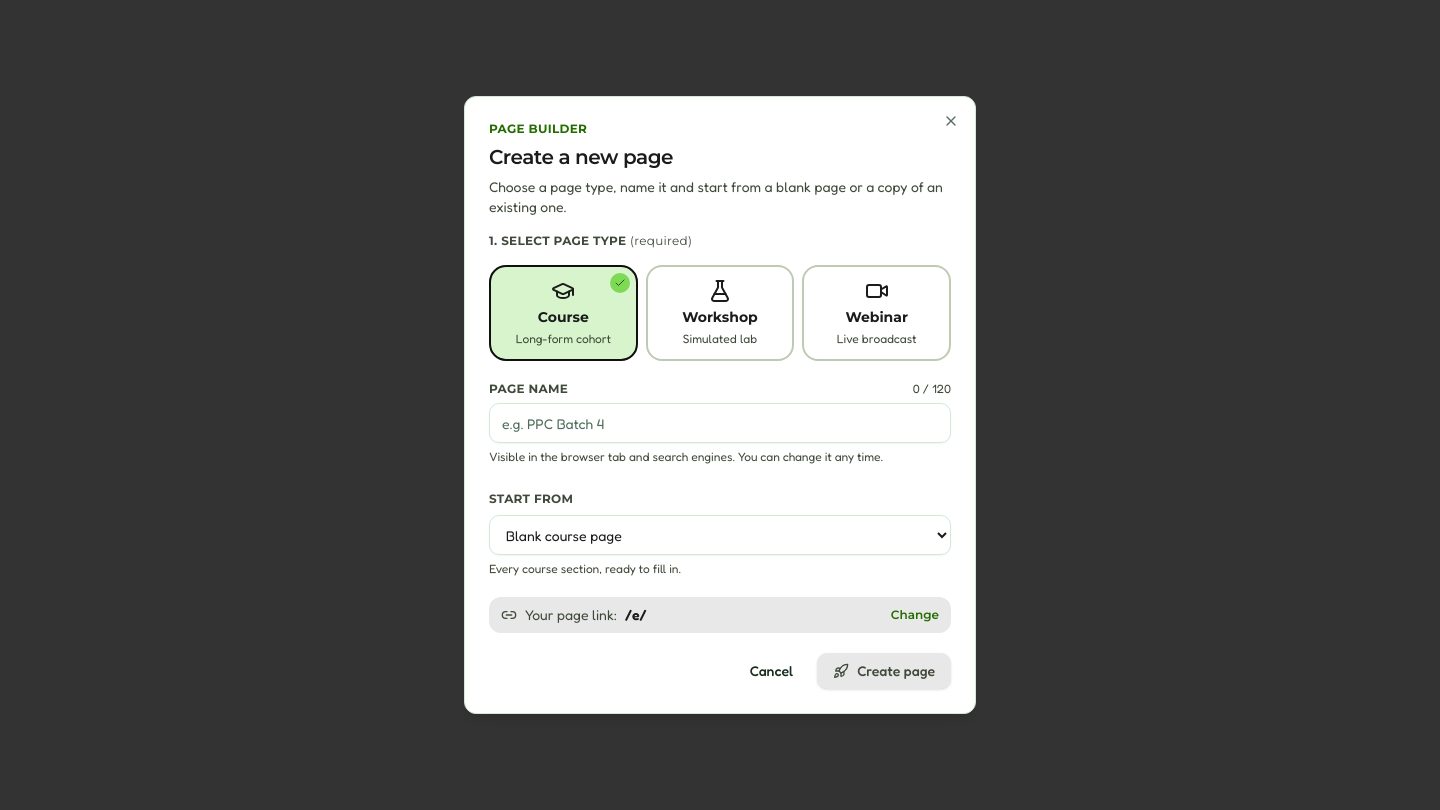
Scenario: NewPageDialog › clears the server error when the name or the link is edited
This screenshot has width=1440, height=810.
In the field labelled "Page name": (720, 423) [489, 403, 951, 443], type "PPC Batch 3"
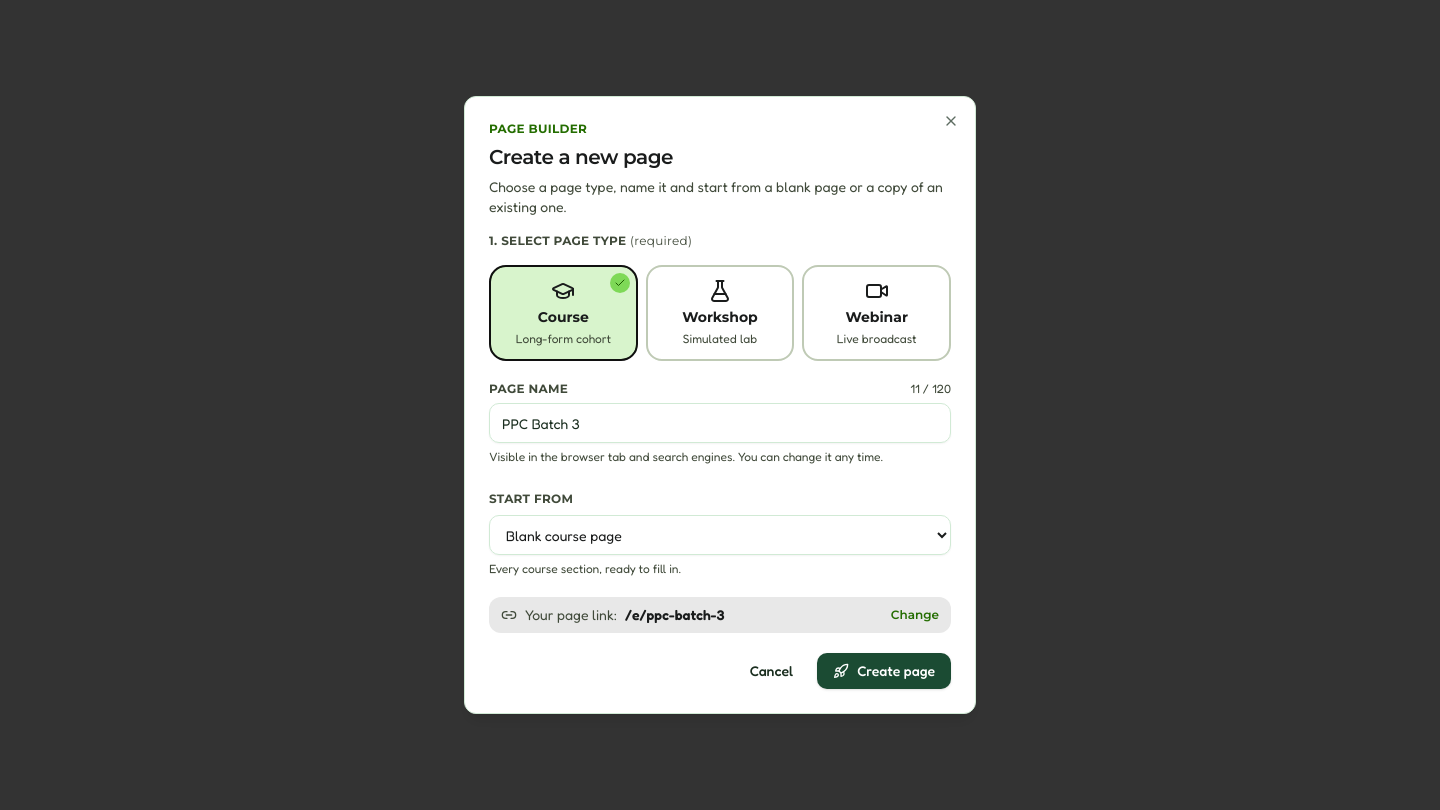
Click the button "Create page": (884, 671) [817, 653, 951, 689]
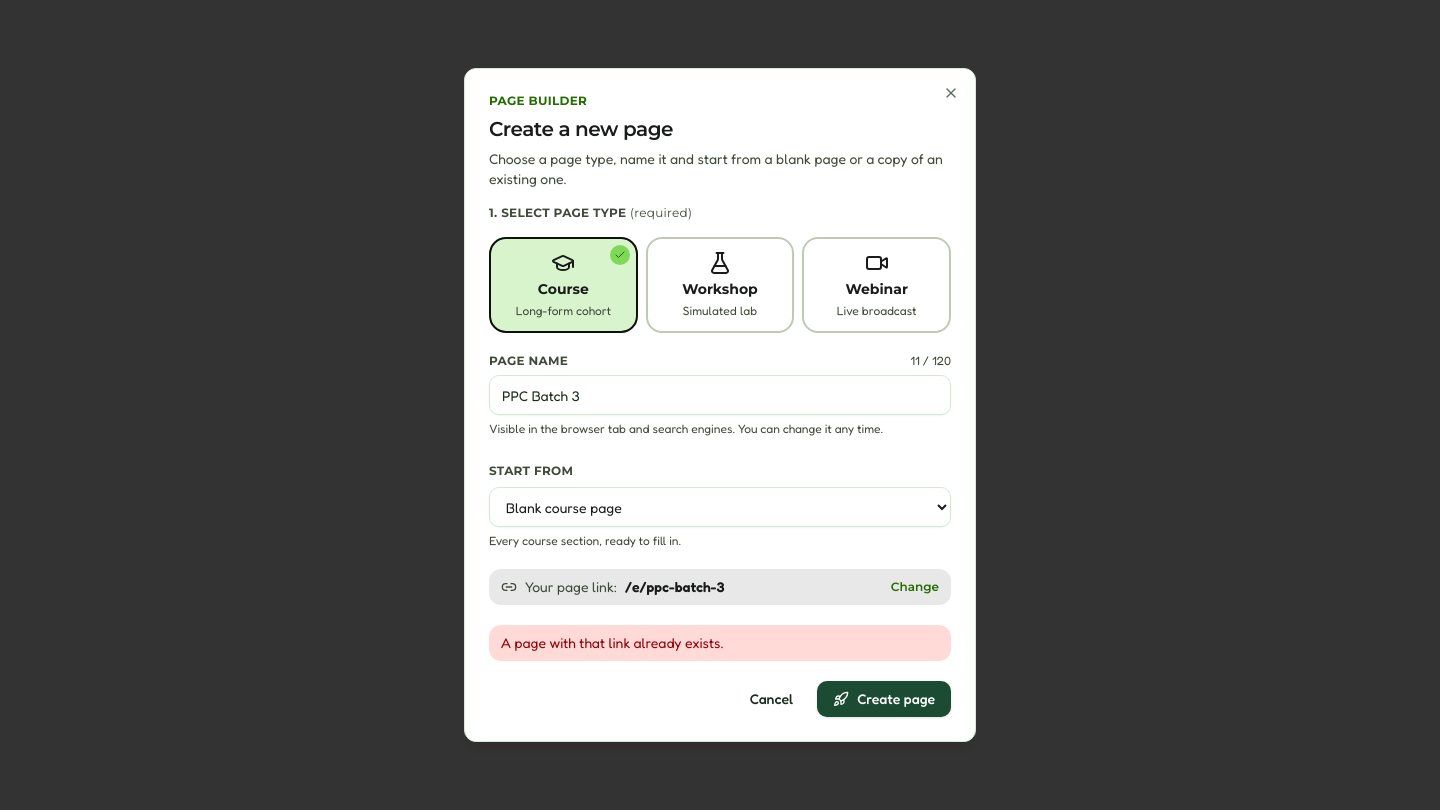
expect the text "A page with that link already exists." is shown: met, box [489, 625, 951, 661]
Click the button "Change": (915, 587) [891, 579, 939, 595]
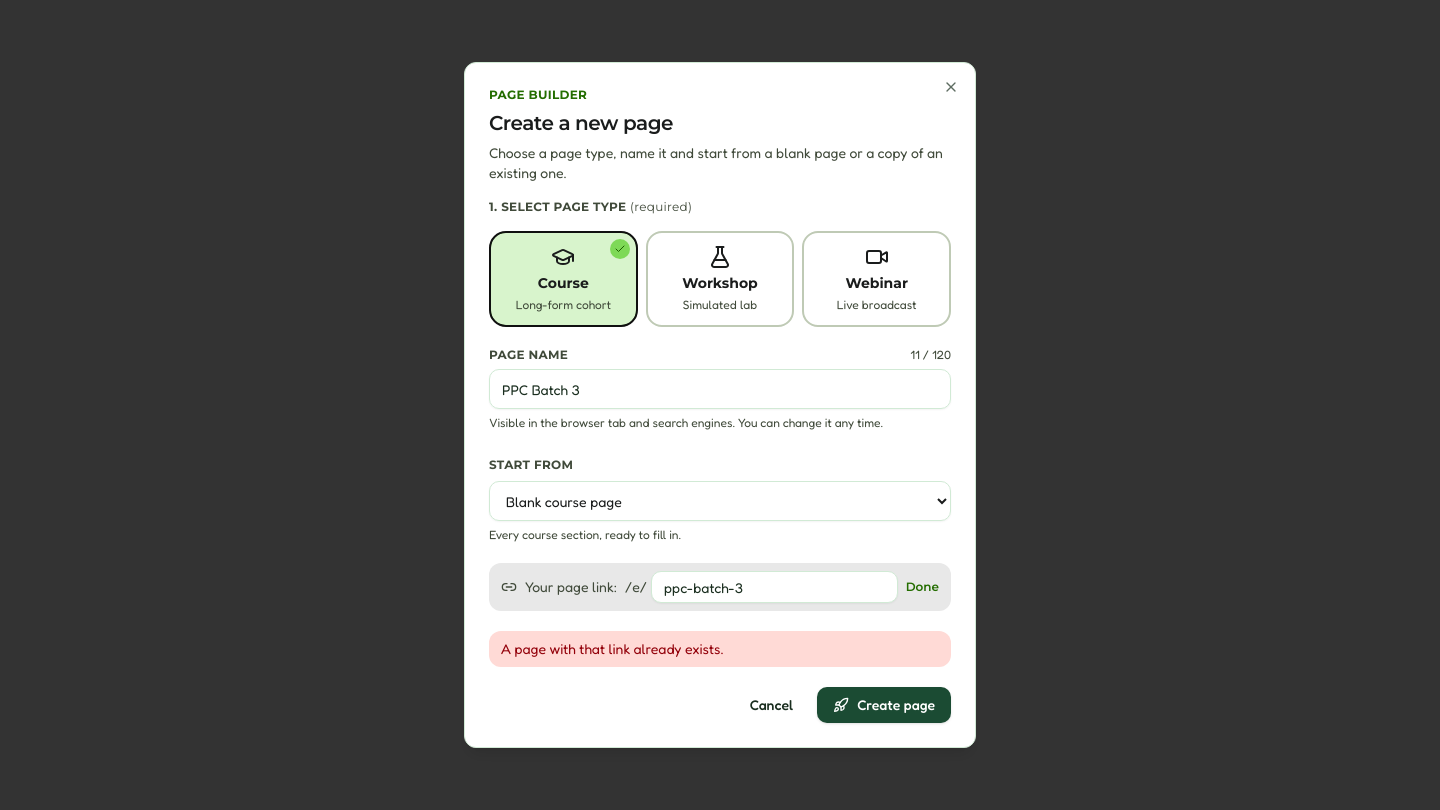
Replace the text in the field named "link ending" with "ppc-batch-9": (774, 587) [651, 571, 898, 603]
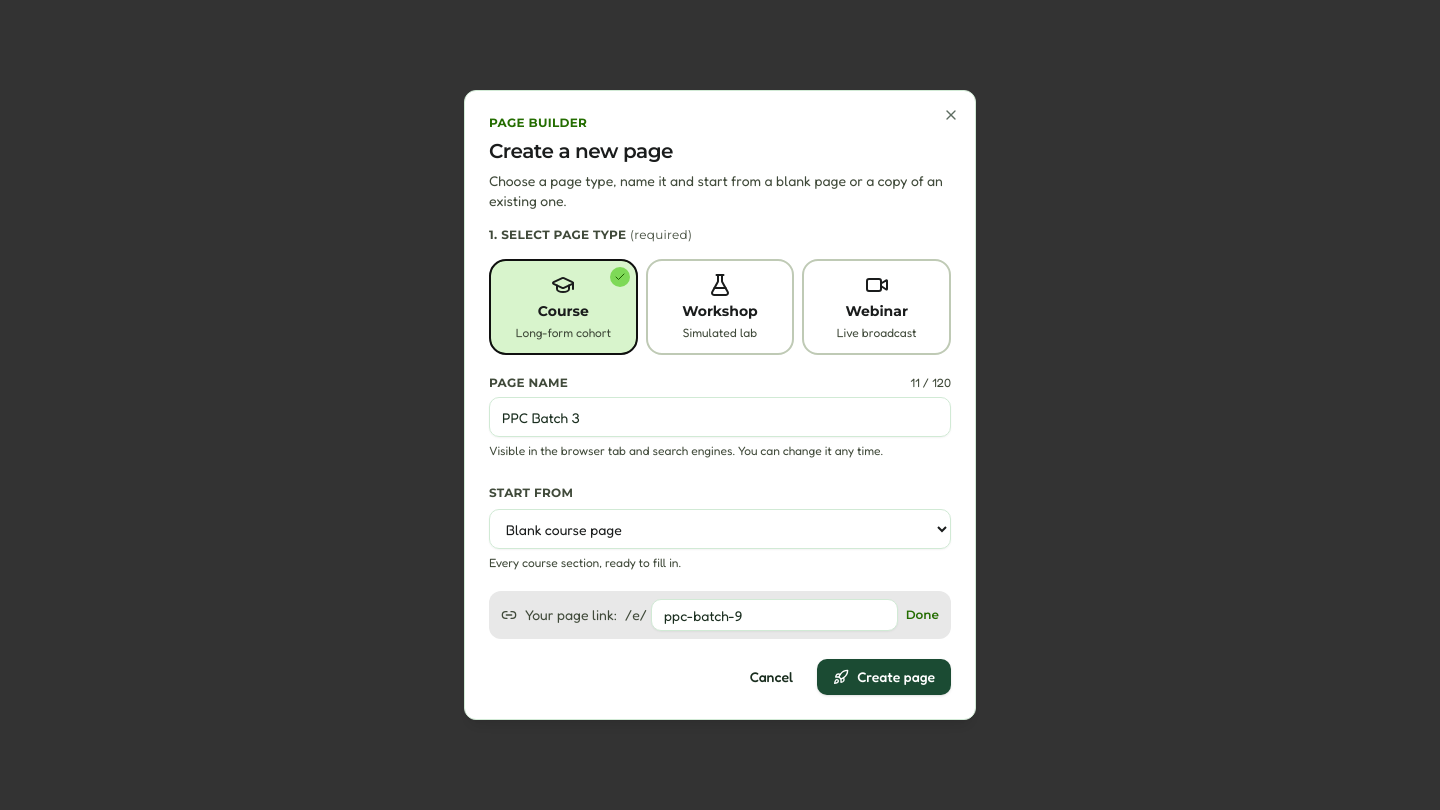
expect the text "already exists" is gone: met
Click the button "Create page": (884, 677) [817, 659, 951, 695]
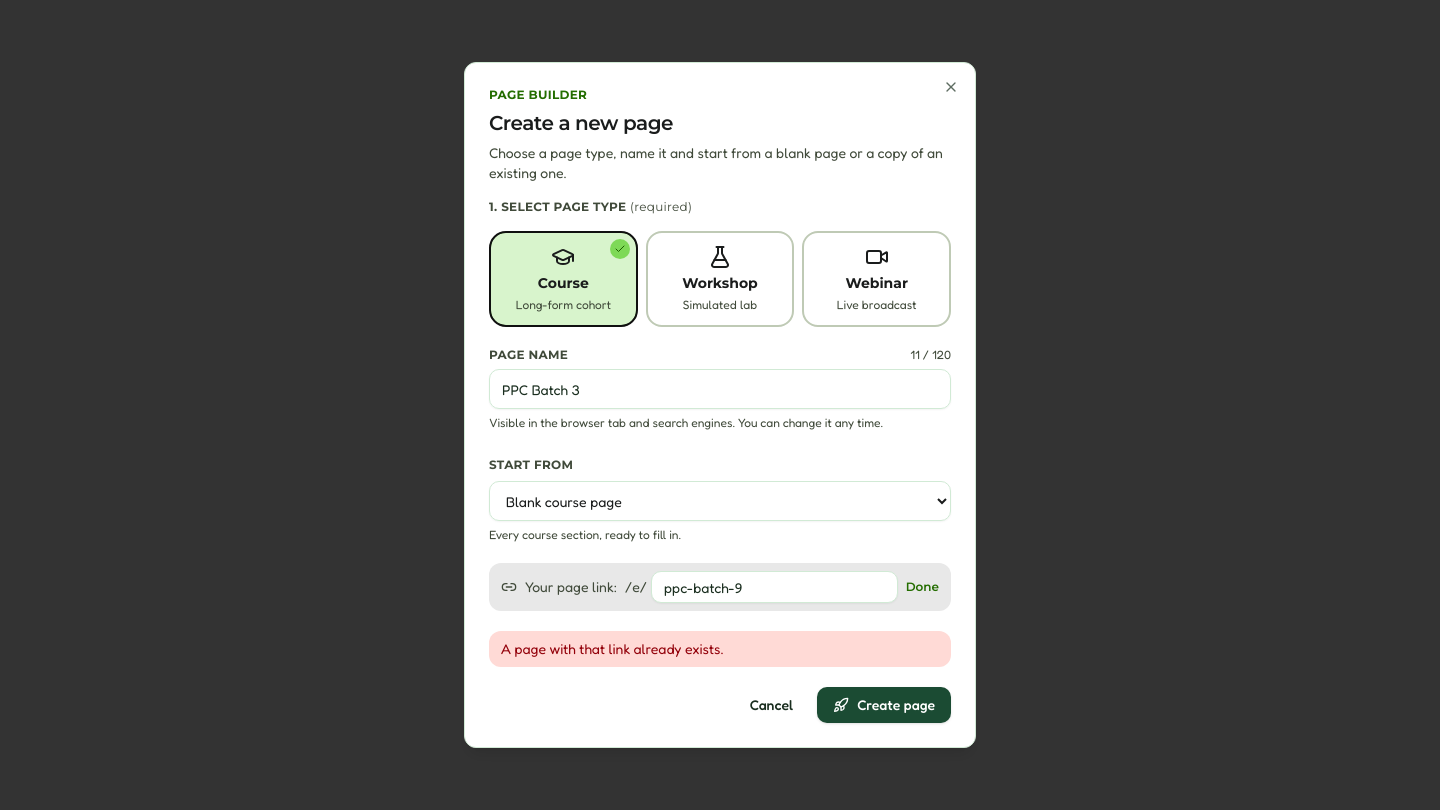
expect the text "A page with that link already exists." is shown: met, box [489, 631, 951, 667]
Replace the text in the field labelled "Page name" with "PPC Batch 9": (720, 389) [489, 369, 951, 409]
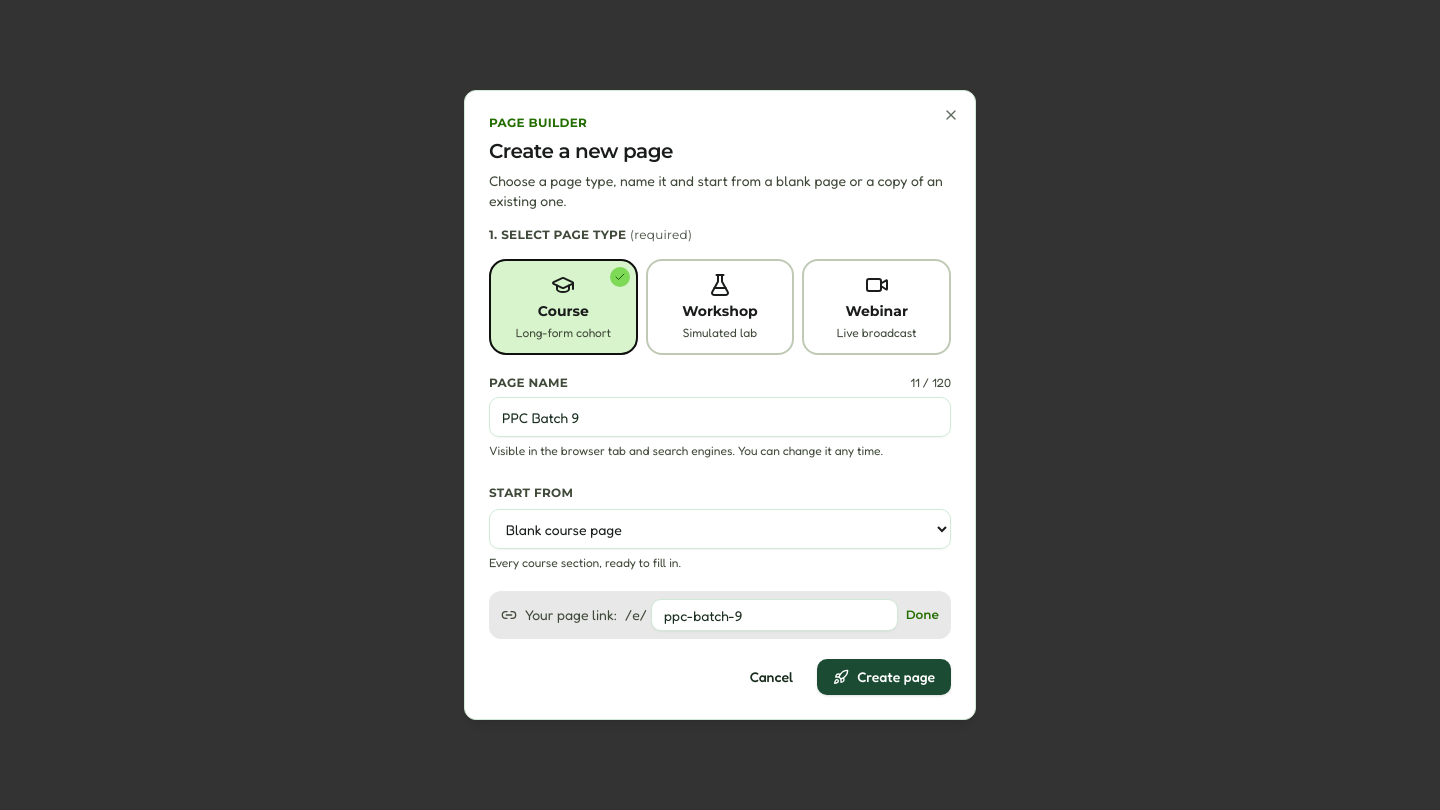
expect the text "already exists" is gone: met
